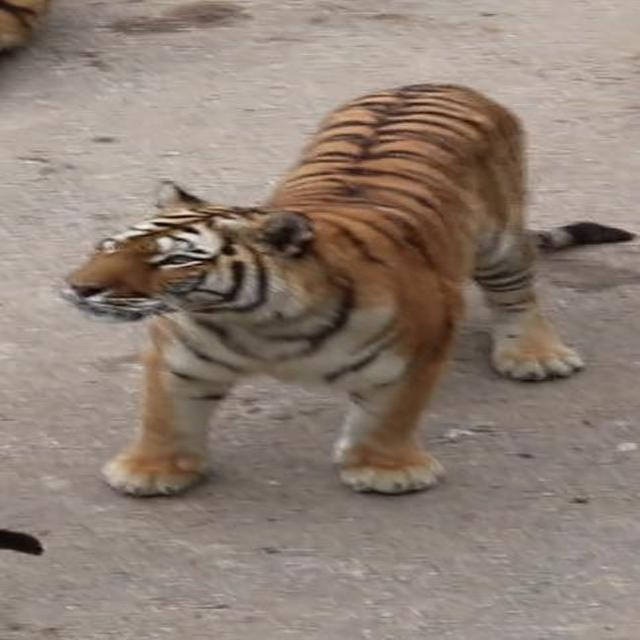tiger: (60, 80, 634, 499)
